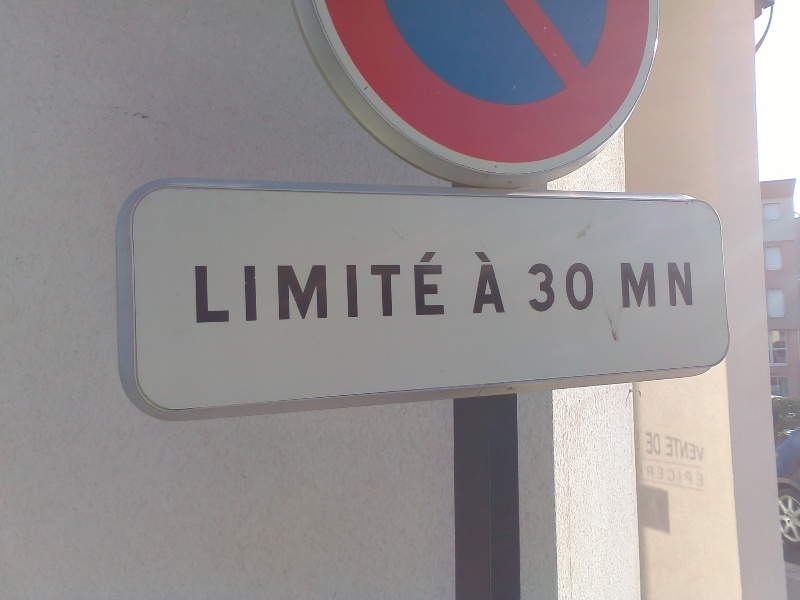text: (193, 248, 208, 325), (209, 248, 224, 325), (225, 248, 240, 325), (241, 248, 256, 325), (257, 248, 272, 325), (273, 248, 288, 325), (289, 248, 304, 325), (305, 248, 320, 325), (321, 248, 336, 325), (337, 248, 352, 325), (353, 248, 368, 325), (369, 248, 384, 325), (385, 248, 400, 325), (401, 248, 416, 325), (417, 248, 432, 325), (433, 248, 446, 325), (481, 249, 496, 315), (529, 260, 544, 315), (545, 260, 560, 315), (561, 260, 576, 315), (577, 260, 592, 315), (625, 260, 640, 309), (641, 260, 656, 309), (657, 260, 672, 309), (673, 260, 688, 309), (497, 249, 506, 315), (472, 249, 480, 315), (673, 434, 688, 463), (689, 434, 704, 463), (641, 463, 656, 489), (657, 463, 672, 489), (673, 463, 688, 489), (689, 463, 704, 489), (645, 431, 656, 457), (593, 260, 598, 315), (619, 260, 624, 309), (689, 260, 694, 309), (665, 434, 672, 463), (657, 431, 663, 457), (190, 248, 192, 325), (705, 434, 707, 463), (639, 463, 640, 489), (705, 463, 706, 489)
